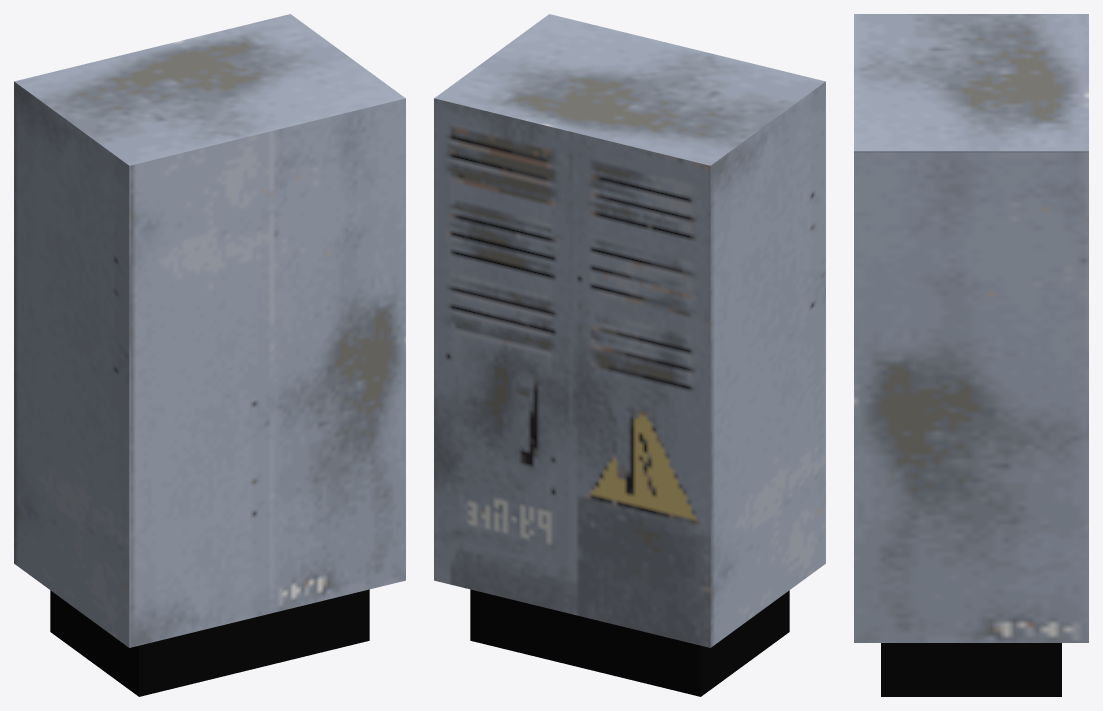
File: transformer.obj
3 renders of one model, left to right at view 1: azimuth 30°, elevation 25°; view 2: azimuth 150°, elevation 25°; view 3: azimuth 270°, elevation 25°, orthographic.
Visible parts, largest first — view 1: Transformer_ID5; view 2: Transformer_ID5; view 3: Transformer_ID5.
Boxes of the visible parts, x1,y1,x2,y2 form: Transformer_ID5: (14, 14, 405, 696); Transformer_ID5: (434, 14, 825, 696); Transformer_ID5: (854, 14, 1088, 696).
Bounding box in the file's own units: 0.9992 × 1.89 × 0.7217.
1 material, 1 textured.
